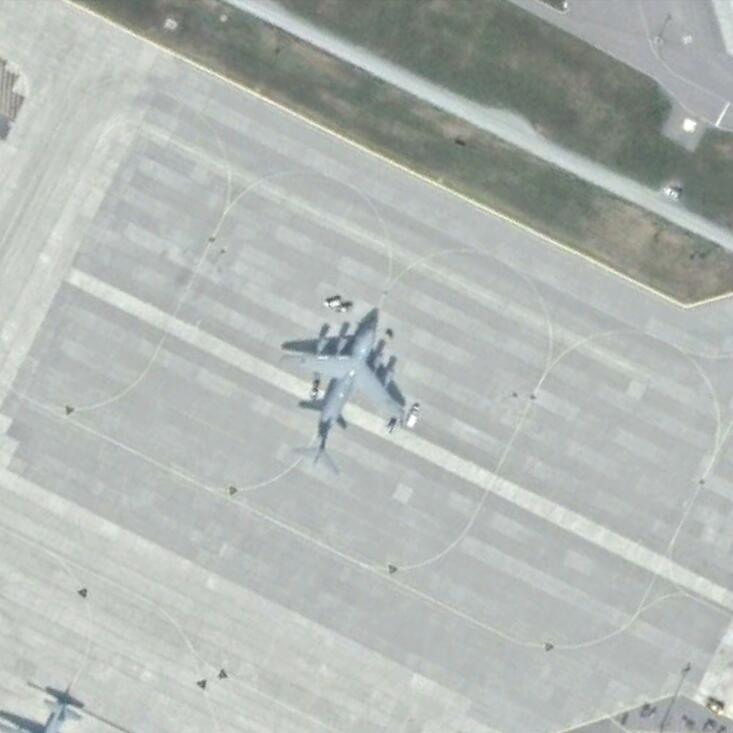A3: (273, 310, 410, 476)
